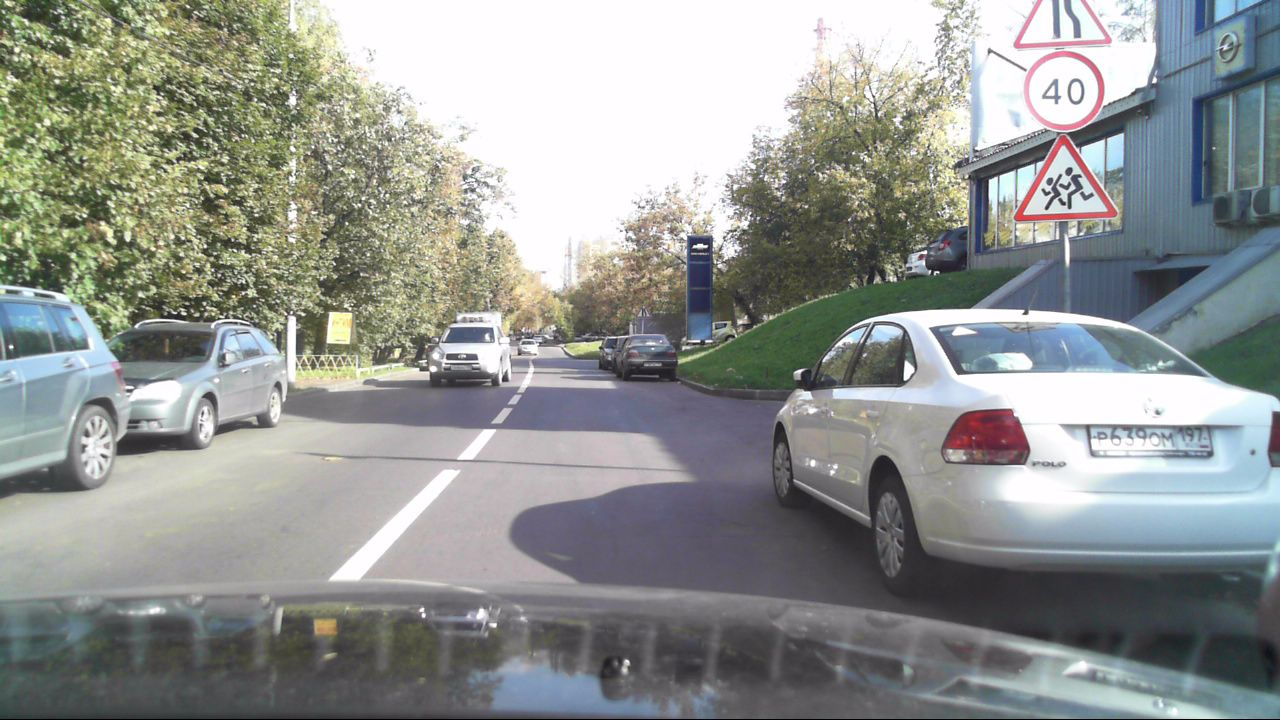speed_warning_40: (1022, 44, 1109, 137)
